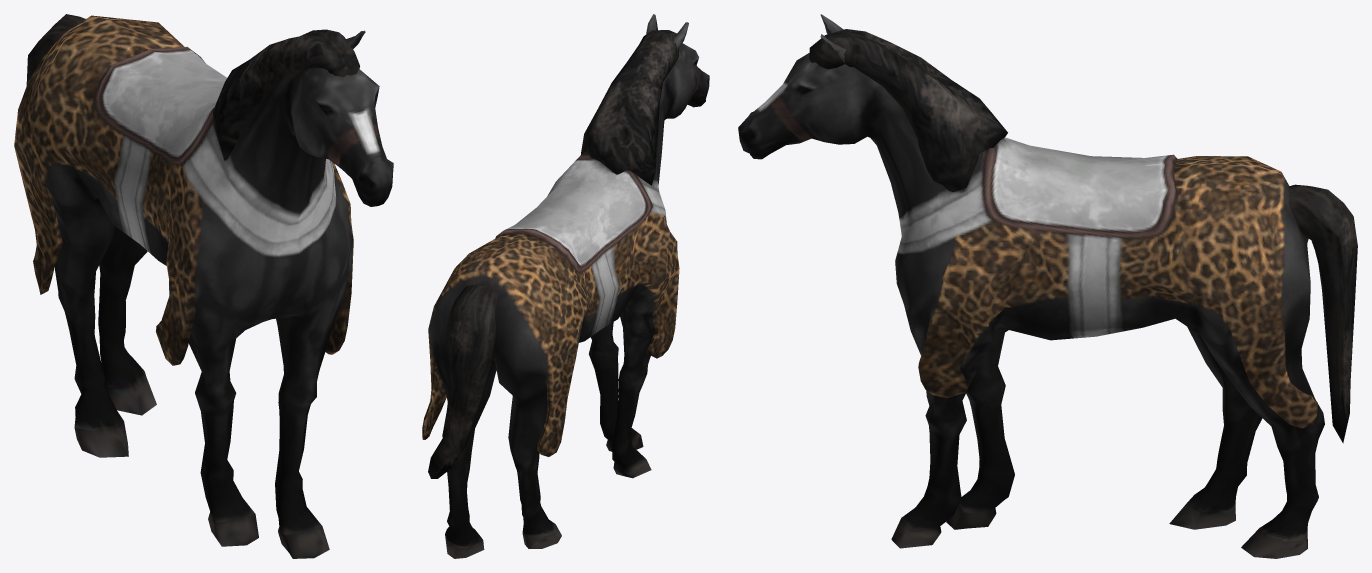
File: body-mediumcavalry.glb
3 views of the same model, side by side, from view 1: azimuth 30°, elevation 25°; view 2: azimuth 150°, elevation 25°; view 3: azimuth 270°, elevation 25° (orthographic). The views are drawn at different scales.
Bounding box in the file's own units: 0.822 × 2.51 × 2.77.
1 material, 1 textured.
